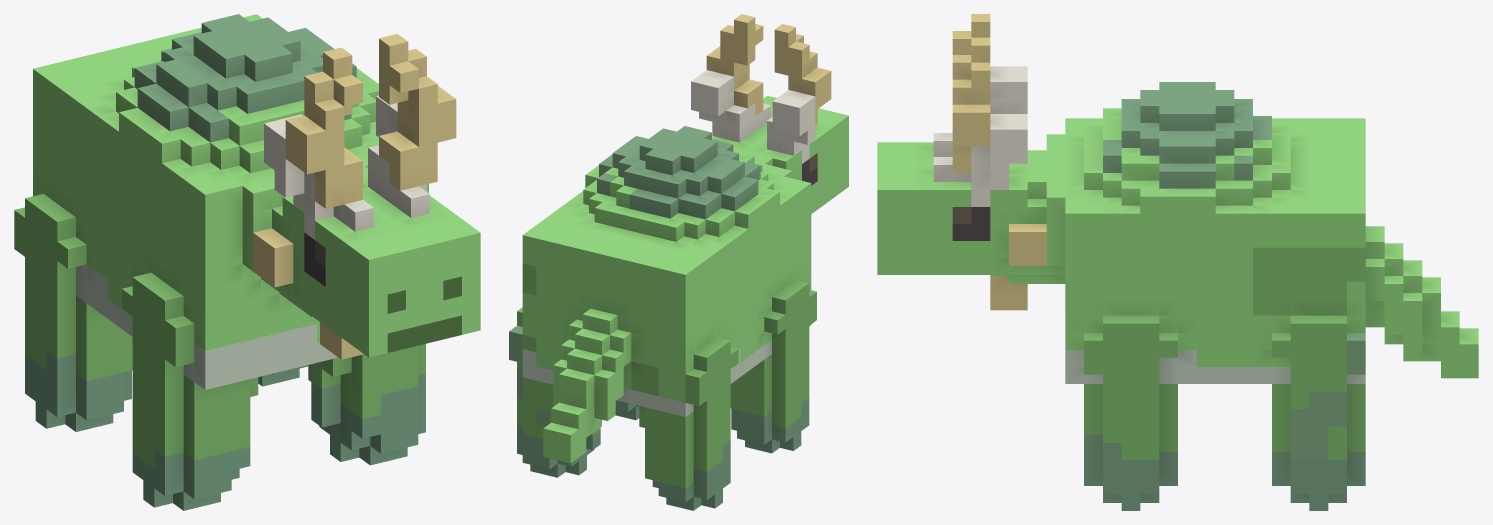
File: bovine-42-champion.glb
3 renders of one model, left to right at view 1: azimuth 30°, elevation 25°; view 2: azimuth 150°, elevation 25°; view 3: azimuth 270°, elevation 25°, orthographic. The views are drawn at different scales.
Parts seen in each view (by area): view 1: body, head, legFL, legBL, legFR, hornCurlRight, hornCurlLeft, hornLeft, collar, hornRight, eyeLeft, hornBudLeft (+1 smaller); view 2: body, legBL, legFL, tail, head, legBR, hornCurlRight, hornRight, hornCurlLeft, hornLeft, eyeLeft, legFR; view 3: body, legFR, legBR, head, tail, hornCurlRight, hornRight, collar, neck, hornLeft, eyeRight, hornCurlLeft.
Part boxes in pixels (<box>): body: <box>33,14,428,389</box>; head: <box>282,176,480,357</box>; legFL: <box>122,272,258,510</box>; legBL: <box>14,194,132,431</box>; legFR: <box>308,344,425,465</box>; hornCurlRight: <box>379,34,456,190</box>; hornCurlLeft: <box>285,47,362,208</box>; hornLeft: <box>264,114,344,239</box>; collar: <box>253,228,363,359</box>; hornRight: <box>368,95,426,209</box>; eyeLeft: <box>304,232,325,286</box>; hornBudLeft: <box>344,200,373,231</box>; body: <box>522,126,811,416</box>; legBL: <box>639,337,738,510</box>; legFL: <box>730,280,816,453</box>; tail: <box>543,308,631,463</box>; head: <box>712,96,848,213</box>; legBR: <box>509,307,600,477</box>; hornCurlRight: <box>706,14,763,116</box>; hornRight: <box>691,70,763,142</box>; hornCurlLeft: <box>774,24,831,125</box>; hornLeft: <box>767,90,815,163</box>; eyeLeft: <box>802,153,817,185</box>; legFR: <box>615,400,639,420</box>; body: <box>1046,82,1365,383</box>; legFR: <box>1084,315,1177,510</box>; legBR: <box>1272,315,1365,510</box>; head: <box>877,142,1027,274</box>; tail: <box>1365,226,1478,378</box>; hornCurlRight: <box>952,37,990,172</box>; hornRight: <box>952,114,1027,206</box>; collar: <box>990,224,1046,310</box>; neck: <box>990,150,1065,283</box>; hornLeft: <box>990,66,1027,113</box>; eyeRight: <box>952,207,990,240</box>; hornCurlLeft: <box>952,14,990,54</box>.
Bounding box in the file's own units: 0.63 × 1.12 × 1.44.
